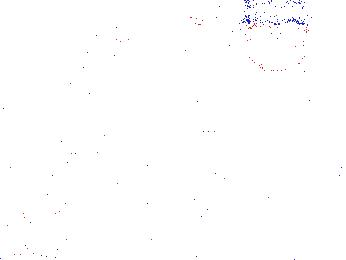moon jellyfish: (1, 1, 89, 94), (102, 1, 213, 58), (173, 1, 238, 91), (239, 21, 316, 72)
